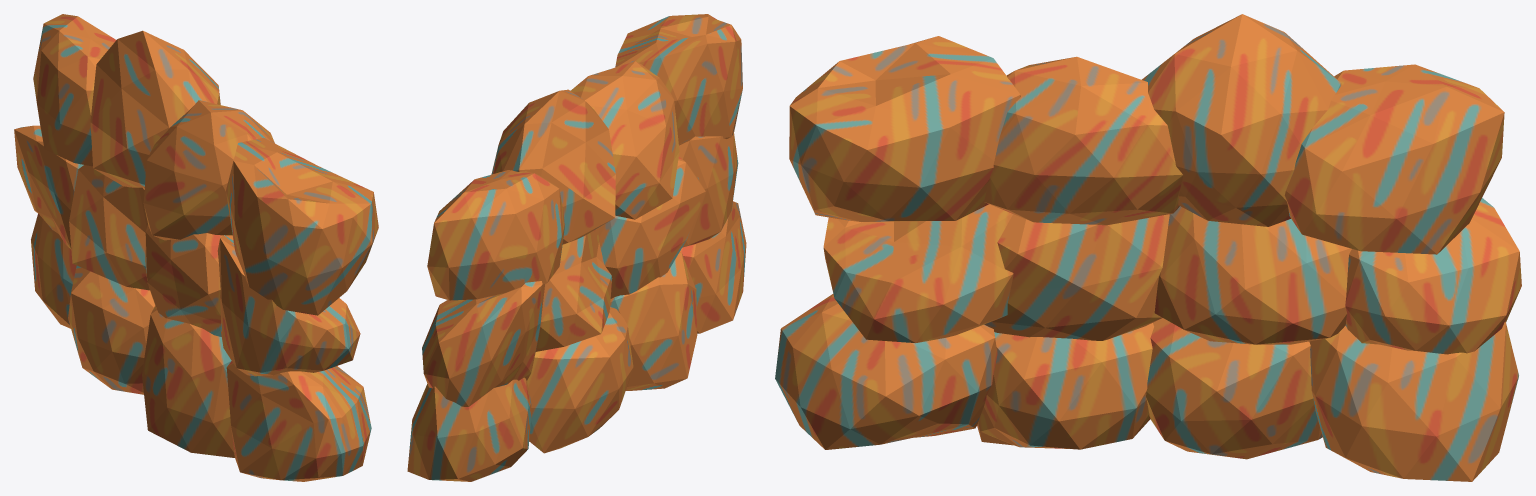
The model's file is level 2 breakable wall 2.fbx.
3 renders of one model, left to right at view 1: azimuth 30°, elevation 25°; view 2: azimuth 150°, elevation 25°; view 3: azimuth 270°, elevation 25°, orthographic. The views are drawn at different scales.
Visible parts, largest first — view 1: BreakableWall_02; view 2: BreakableWall_02; view 3: BreakableWall_02.
Boxes of the visible parts, x1,y1,x2,y2 form: BreakableWall_02: [14, 14, 378, 481]; BreakableWall_02: [407, 14, 746, 481]; BreakableWall_02: [775, 14, 1521, 481].
Bounding box in the file's own units: 1.3 × 3.08 × 4.69.
1 material, 1 textured.
